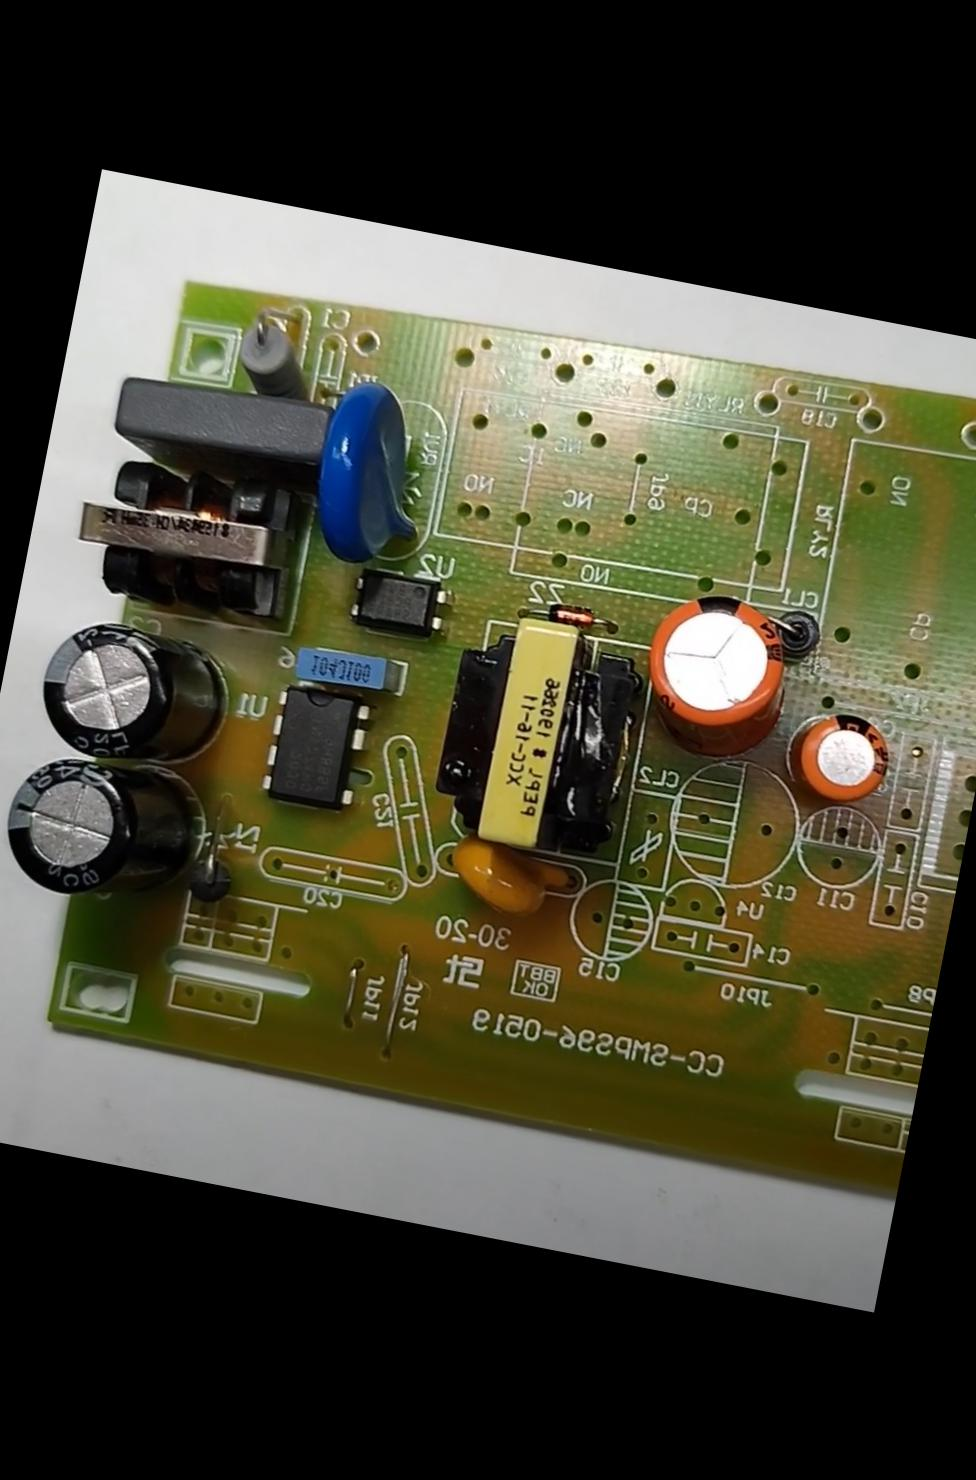Cap1: (636, 577, 800, 759)
Cap2: (790, 701, 895, 805)
Cap3: (25, 606, 232, 781)
Cap4: (0, 736, 222, 924)
MOSFET: (254, 677, 376, 817)
Mov: (298, 376, 451, 577)
Resistor: (222, 307, 325, 408)
Transformer: (424, 596, 647, 865), (61, 438, 314, 631)
